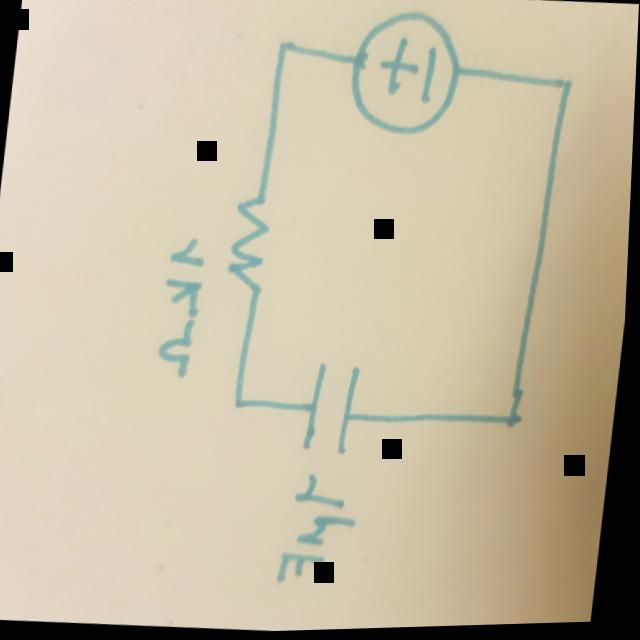capacitor: (302, 359, 368, 464)
junction: (271, 30, 298, 61), (503, 407, 527, 435), (554, 73, 579, 98), (234, 392, 252, 414)
resistor: (224, 189, 279, 299)
source: (344, 6, 468, 143)
text: (276, 472, 363, 589), (155, 235, 212, 380)
